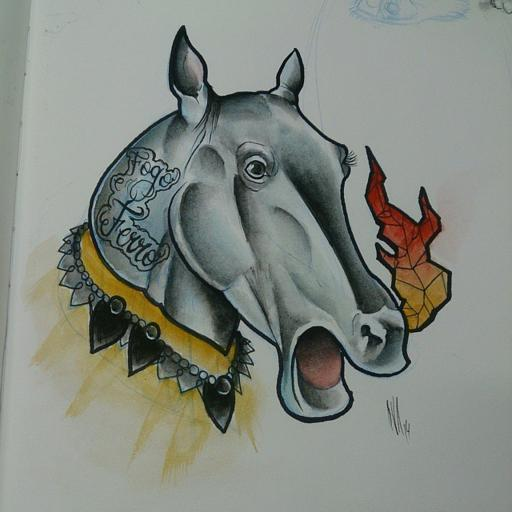horse: (20, 24, 412, 478)
